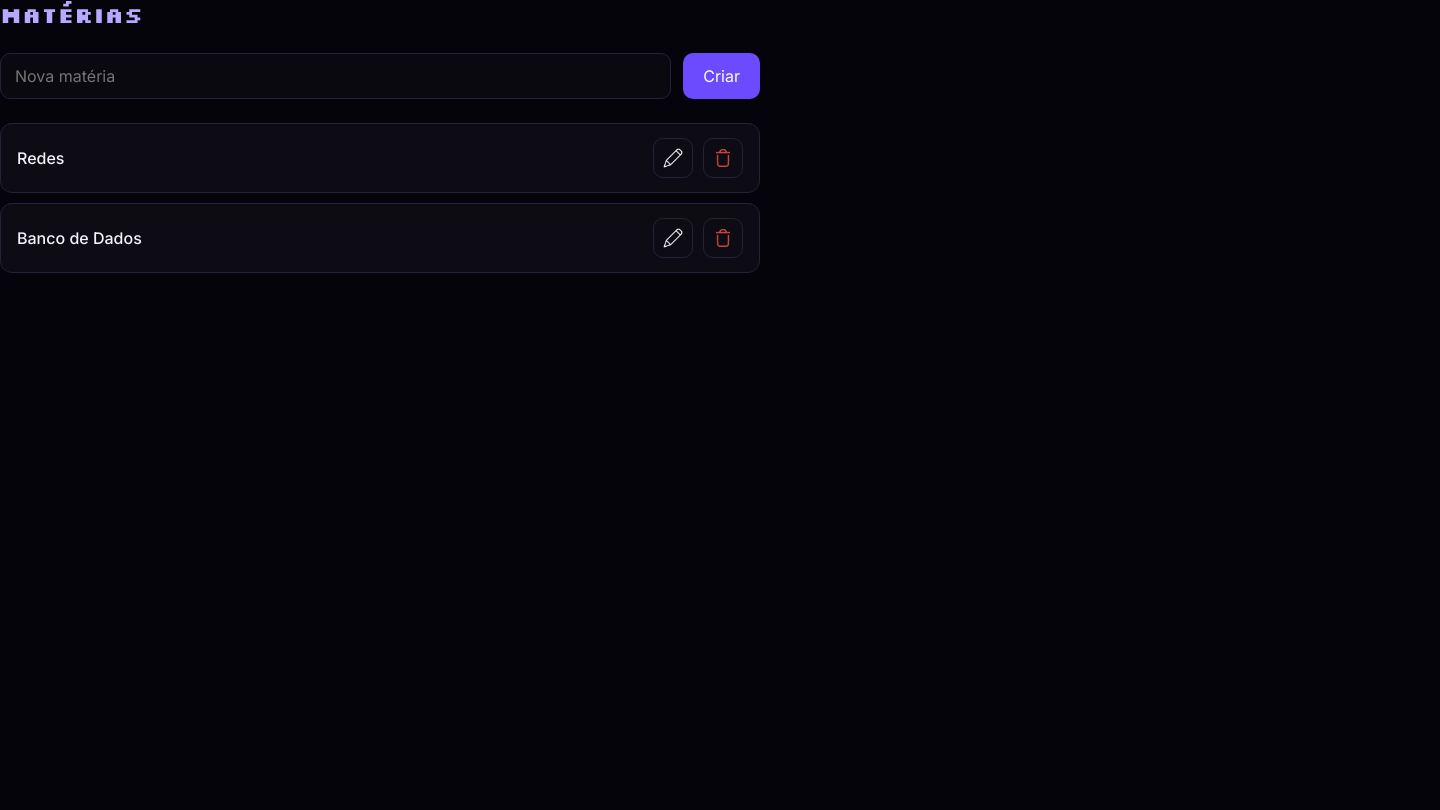
Test: SubjectsPage › exclui só depois da confirmação, avisando sobre o conteúdo
This screenshot has width=1440, height=810.
Check: the link "Redes" is shown, box [17,148,64,168]
Click the button named "Excluir Redes" at (723, 158), box [703,138,743,178]
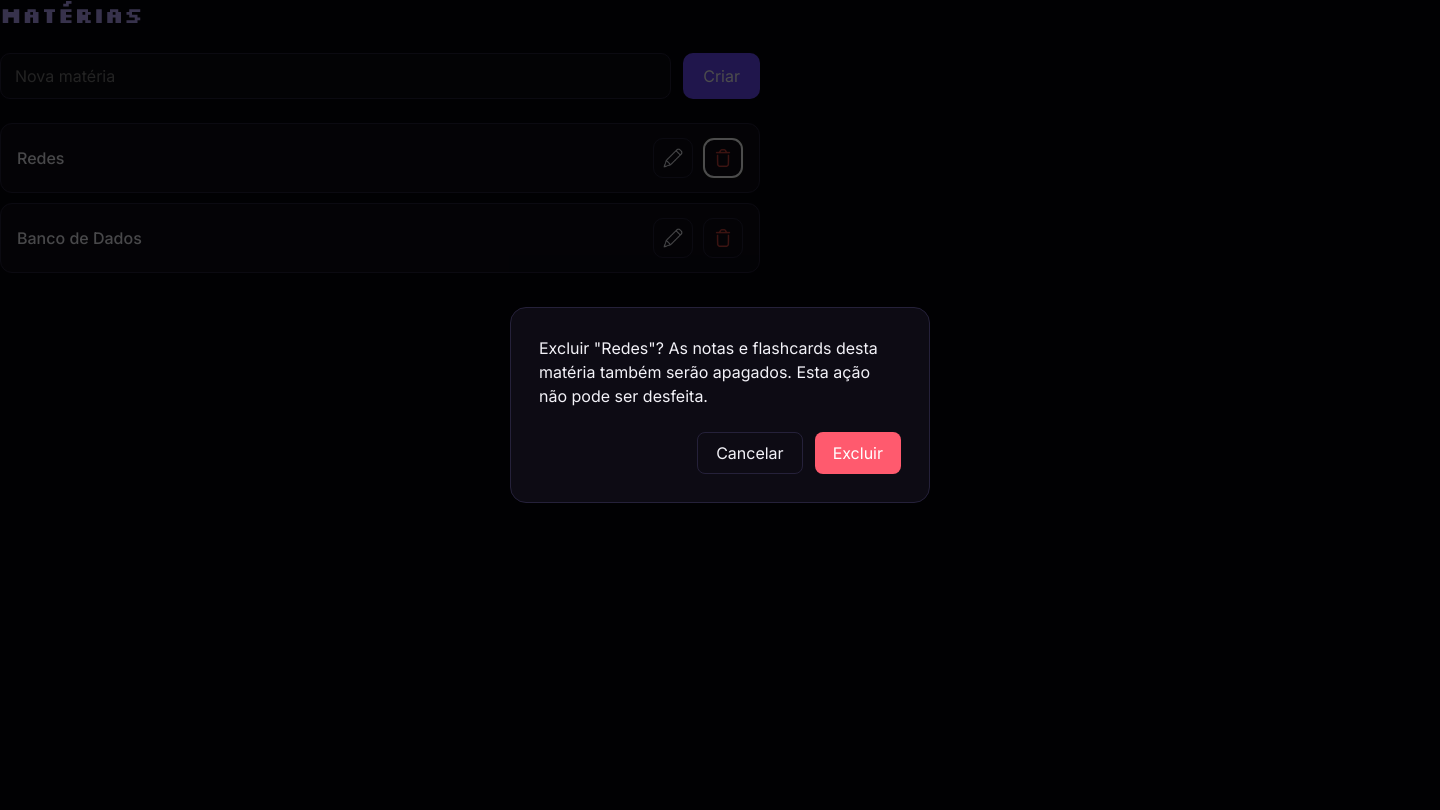
Check: the text "notas e flashcards" is shown, box [539,338,878,406]
Click the button "Excluir" at (858, 453), box [815,432,901,474]
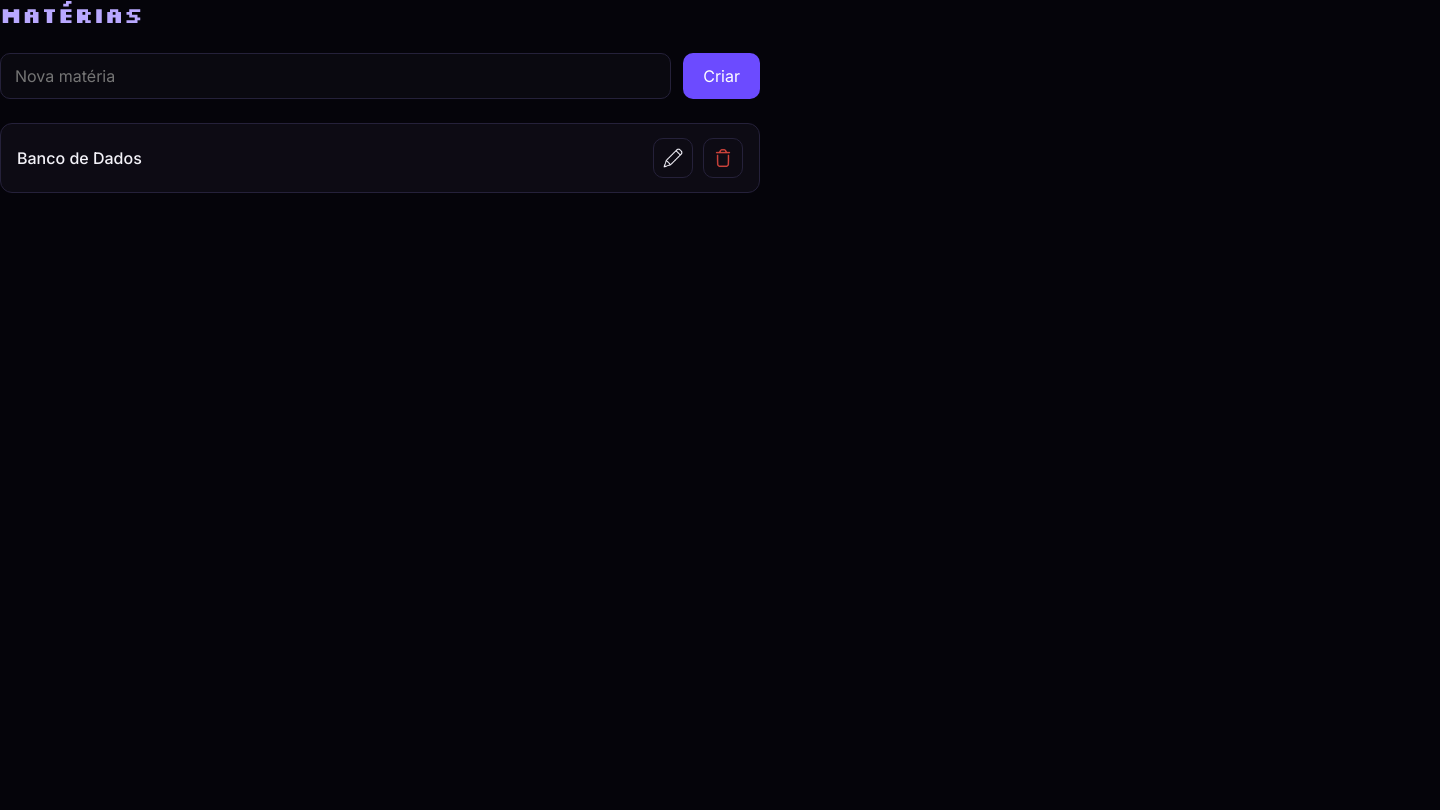
Check: the link "Redes" is gone
